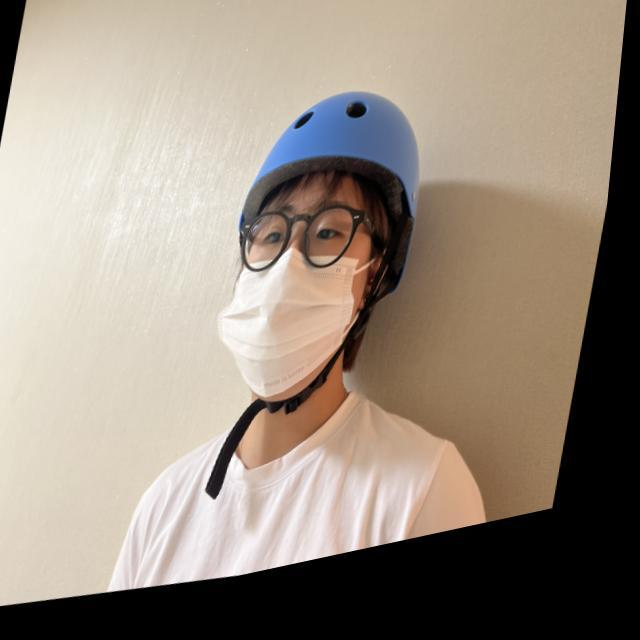Helmet: (224, 86, 426, 422)
